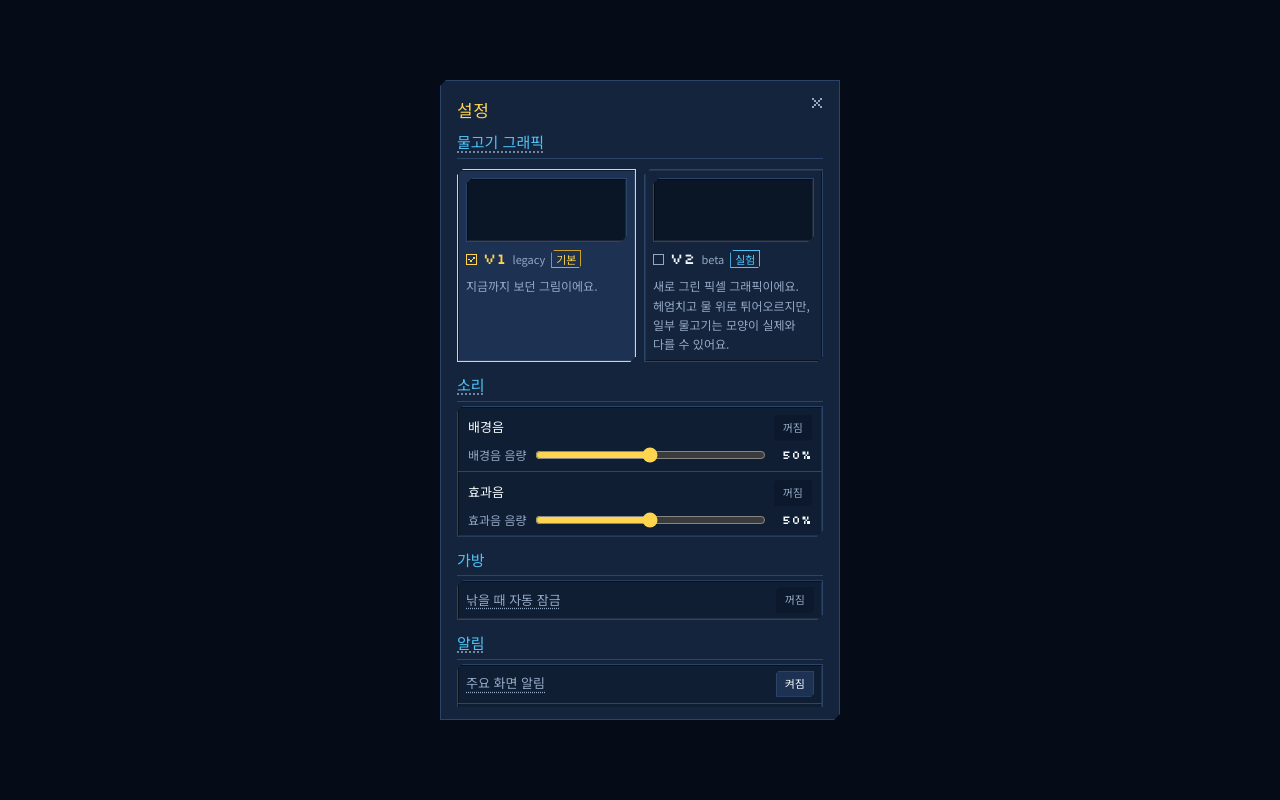
SettingsModal — 가방 설정(낚을 때 자동 잠금) › 설명 문장은 본문에 두지 않고 라벨 툴팁으로 보여 준다
Expected: the text "직접 잠근" is not shown
Hover over the text "낚을 때 자동 잠금" at (513, 599), box [466,590,561,609]
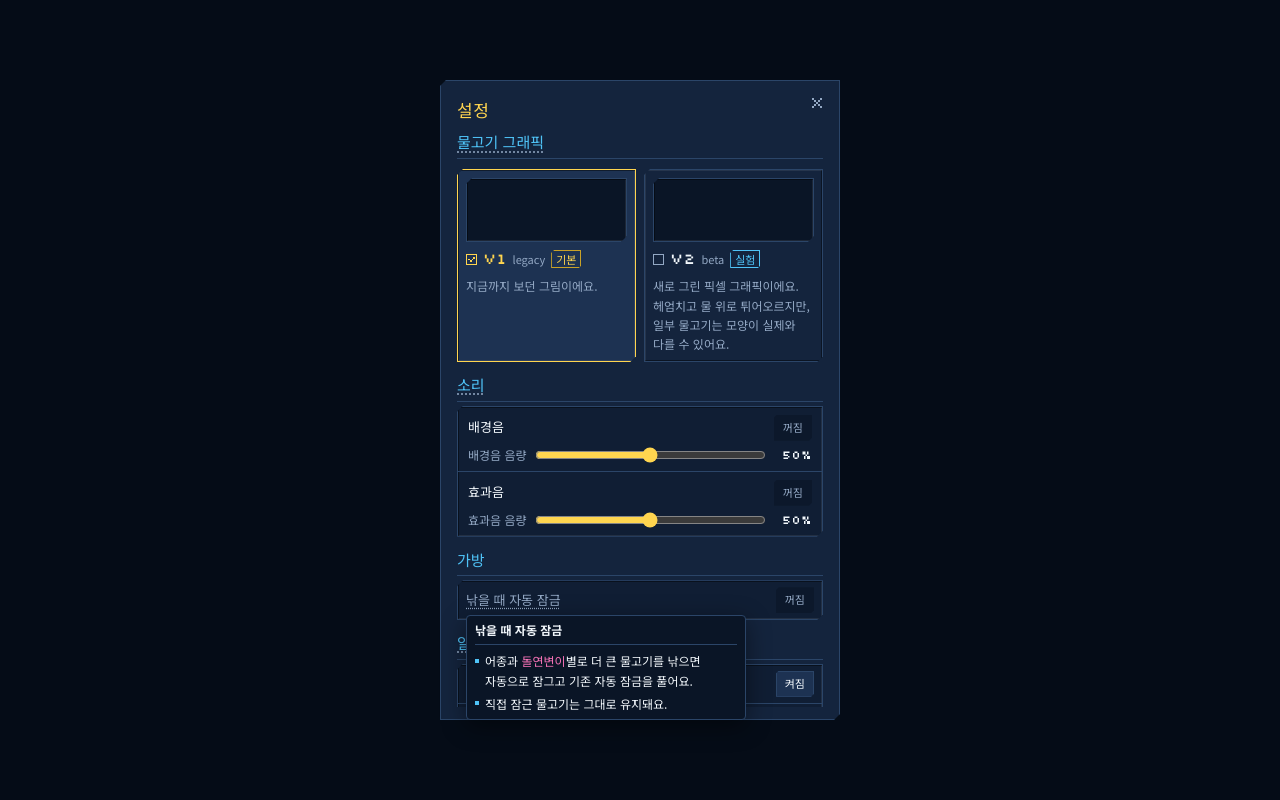
Now the tooltip shows "더 큰 물고기", box [485,652,700,689]
Now the tooltip shows "직접 잠근", box [485,695,667,712]
